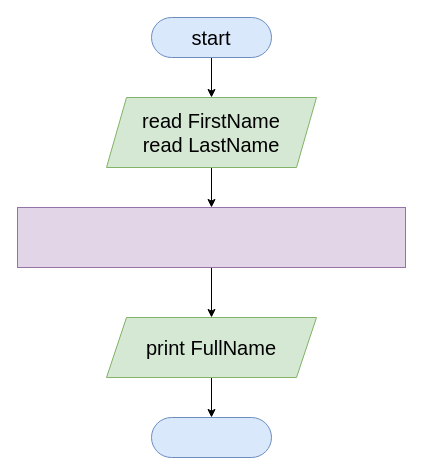
This 423x475 diagram has some shape labels left out. Each missing label, with the centre of its shape:
end: point (211, 437)
FullName= FirstName +" "+ LastName: point (211, 237)
